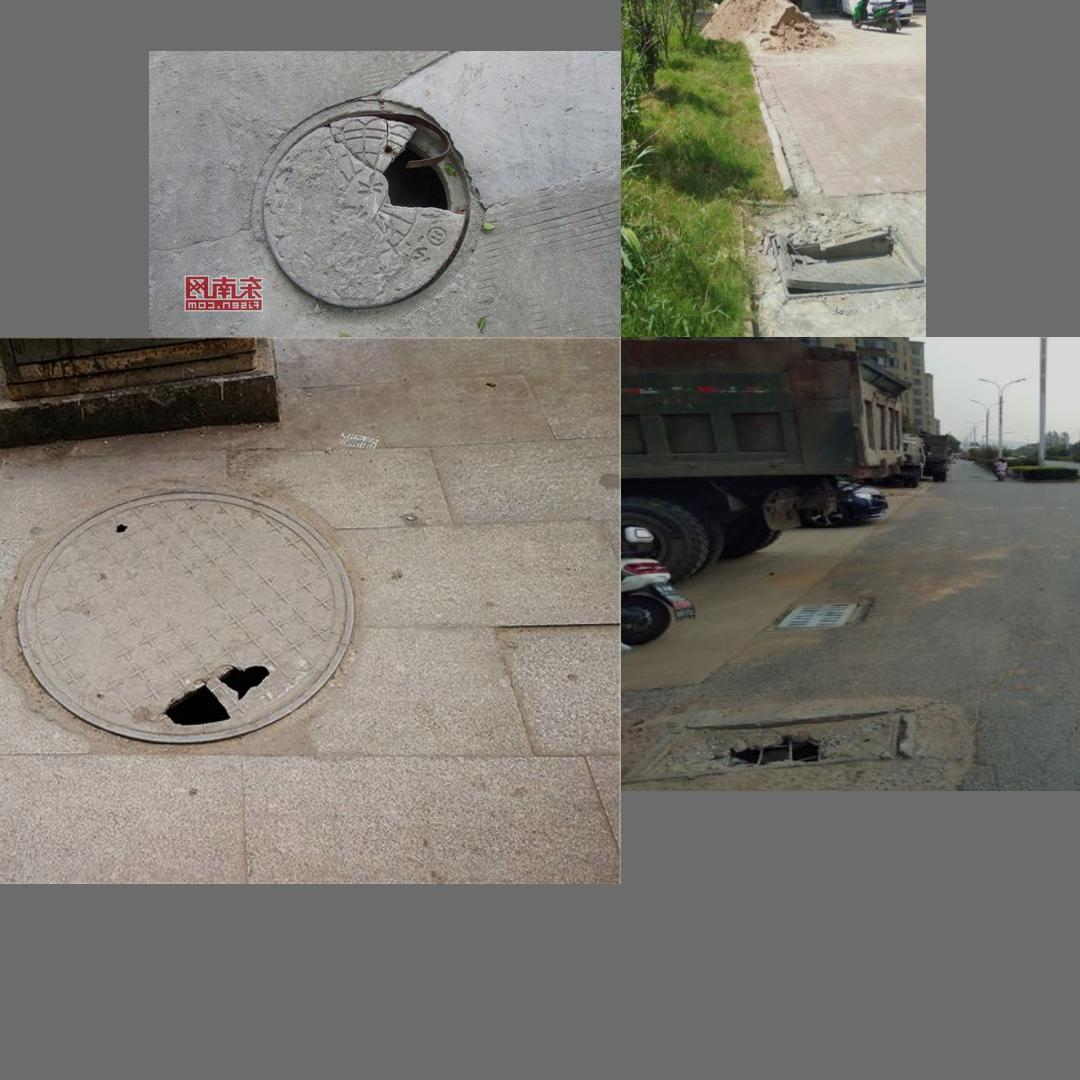broke: (18, 489, 355, 746), (241, 88, 492, 329), (635, 697, 918, 776), (765, 226, 924, 289)
